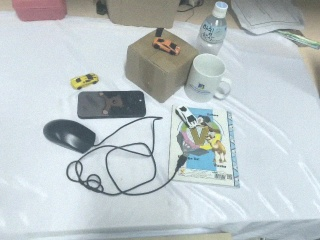book: (171, 102, 245, 190)
bottle: (195, 1, 228, 57)
box: (125, 27, 198, 104), (103, 1, 185, 30)
cup: (184, 53, 235, 104)
mouse: (42, 118, 97, 154)
phone: (76, 91, 145, 121)
toy_car: (172, 103, 201, 130), (151, 36, 182, 57), (70, 72, 100, 90)
